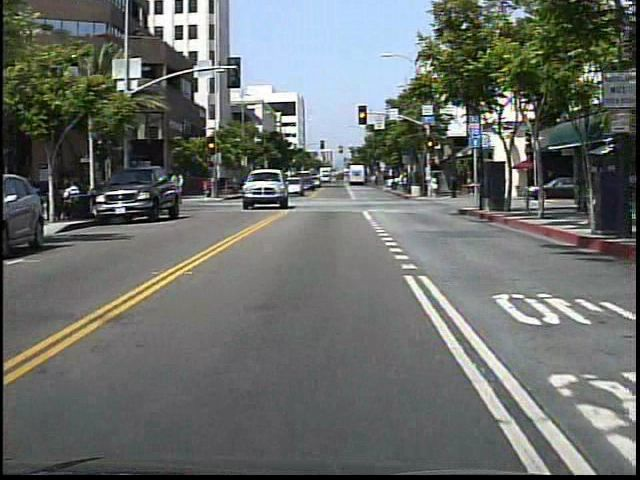person: (167, 169, 188, 204), (448, 172, 463, 205), (428, 176, 441, 200), (204, 176, 214, 199)
